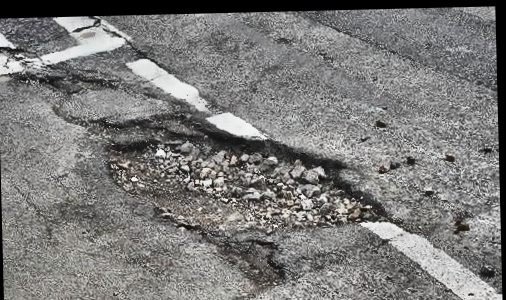pothole: (103, 112, 392, 240), (226, 236, 288, 291), (16, 65, 113, 97)
